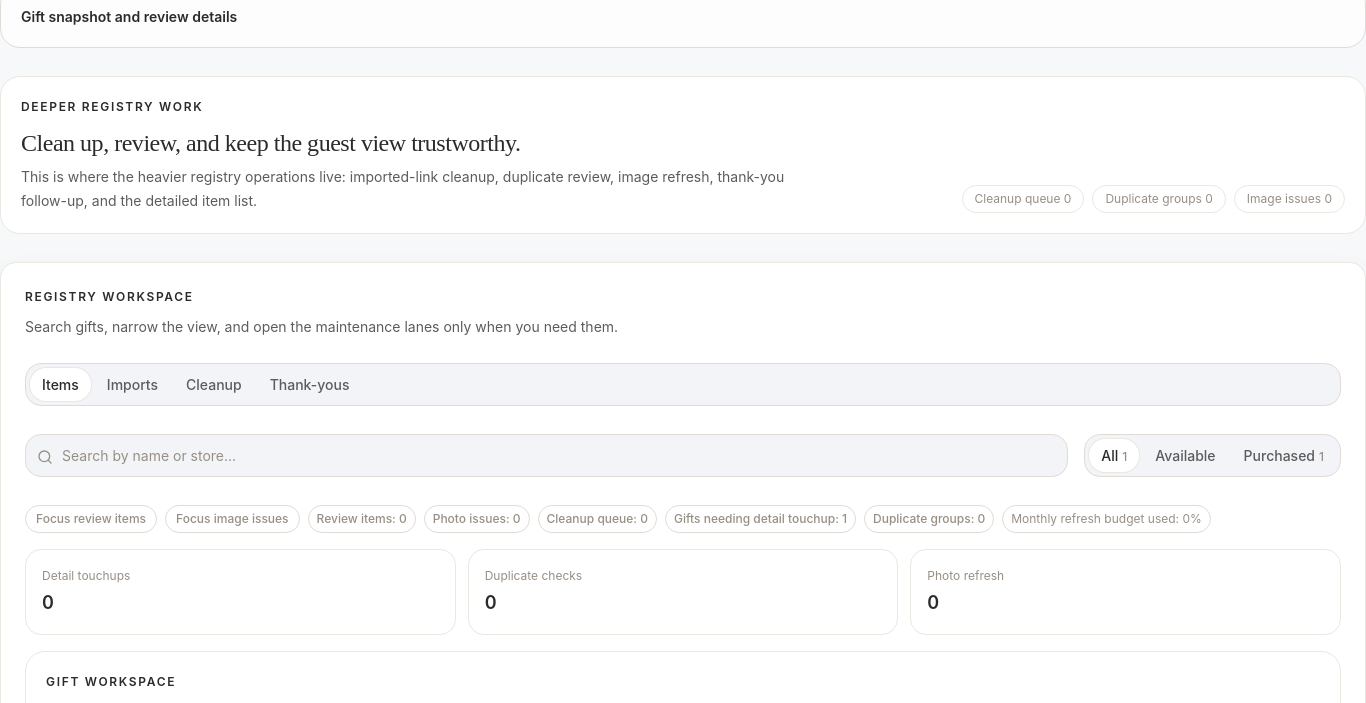
RegistryDashboardRouteContent › switches the workspace between items, imports, and thank-yous
(page scrolled)
Expected: the text "Gift workspace" is shown, [46,674,176,689]
Click the button "Imports": click(132, 384) [95,368,170,401]
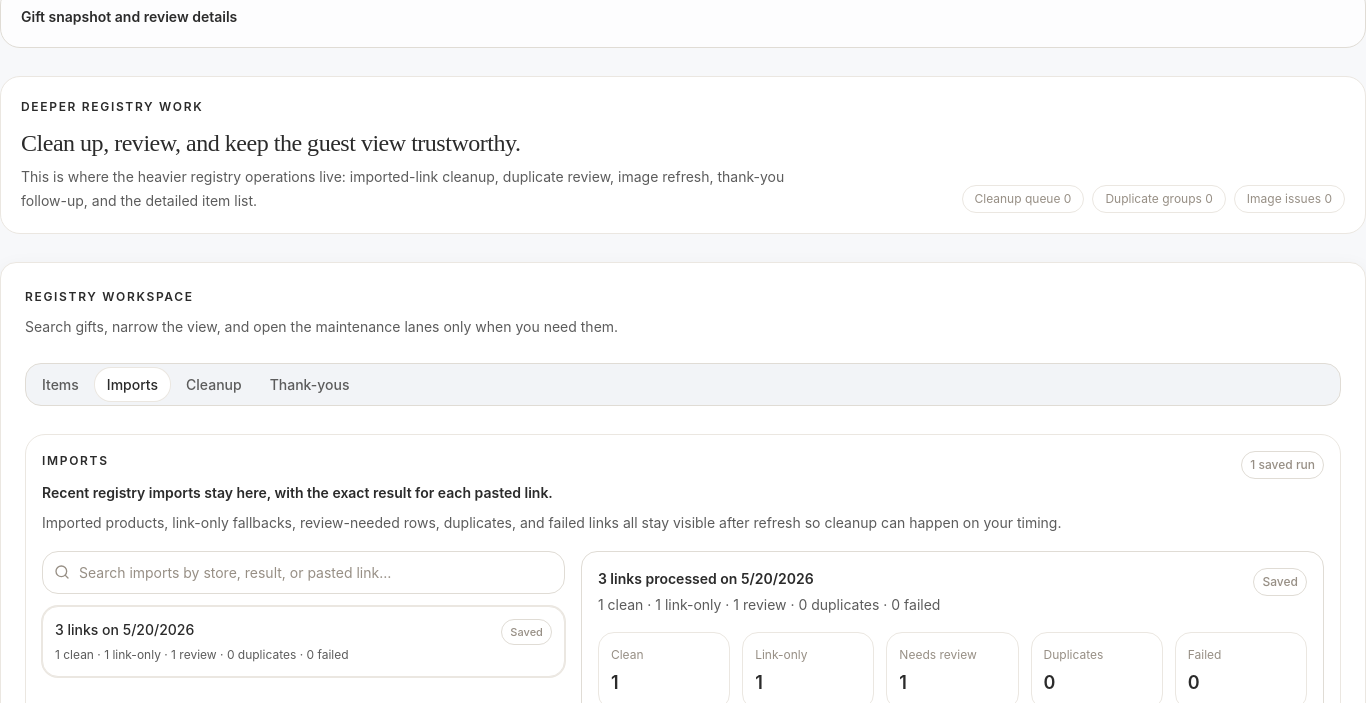
Expected: the text "Recent registry imports stay here, with the exact result for each pasted link." is shown, [42,484,553,501]
Expected: the text "Gift workspace" is gone
Click the button "Thank-yous": click(310, 384) [258,368,362,401]
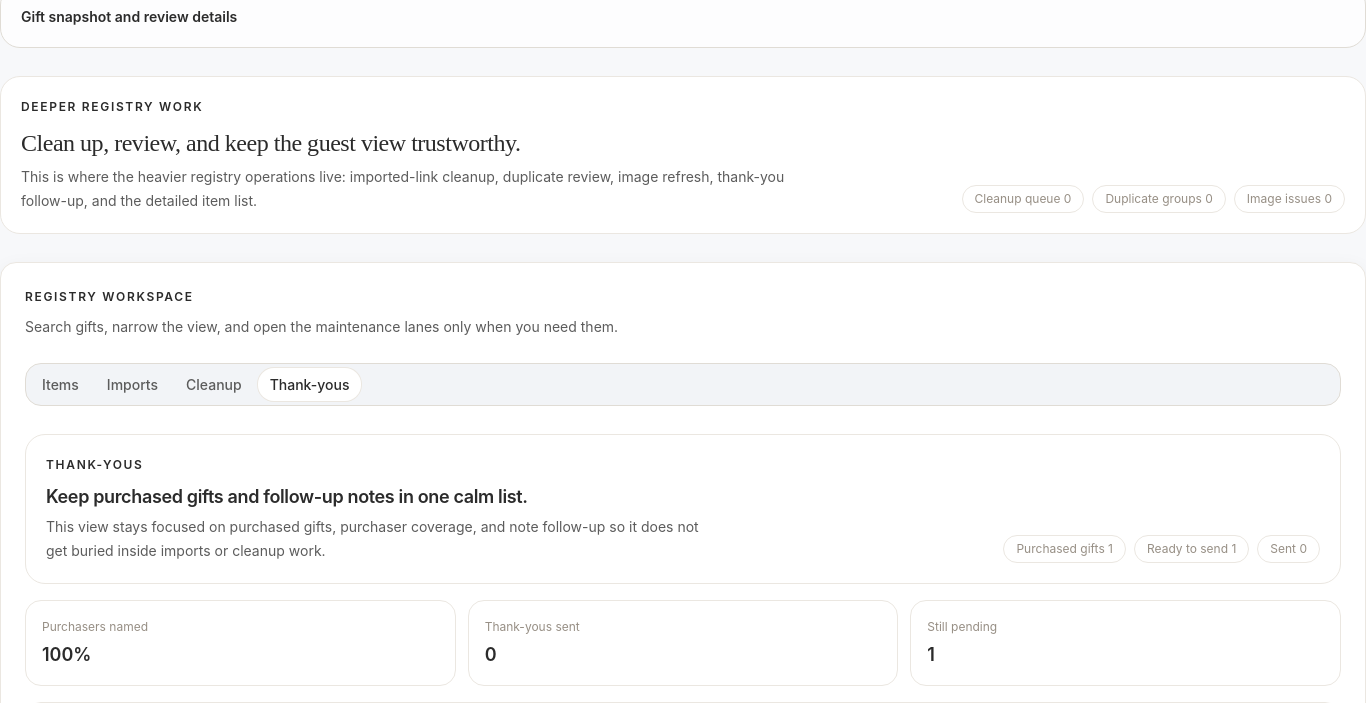
Expected: the heading "Keep purchased gifts and follow-up notes in one calm list." is shown, [46,486,528,507]
Expected: the text "Recent registry imports stay here, with the exact result for each pasted link." is gone
